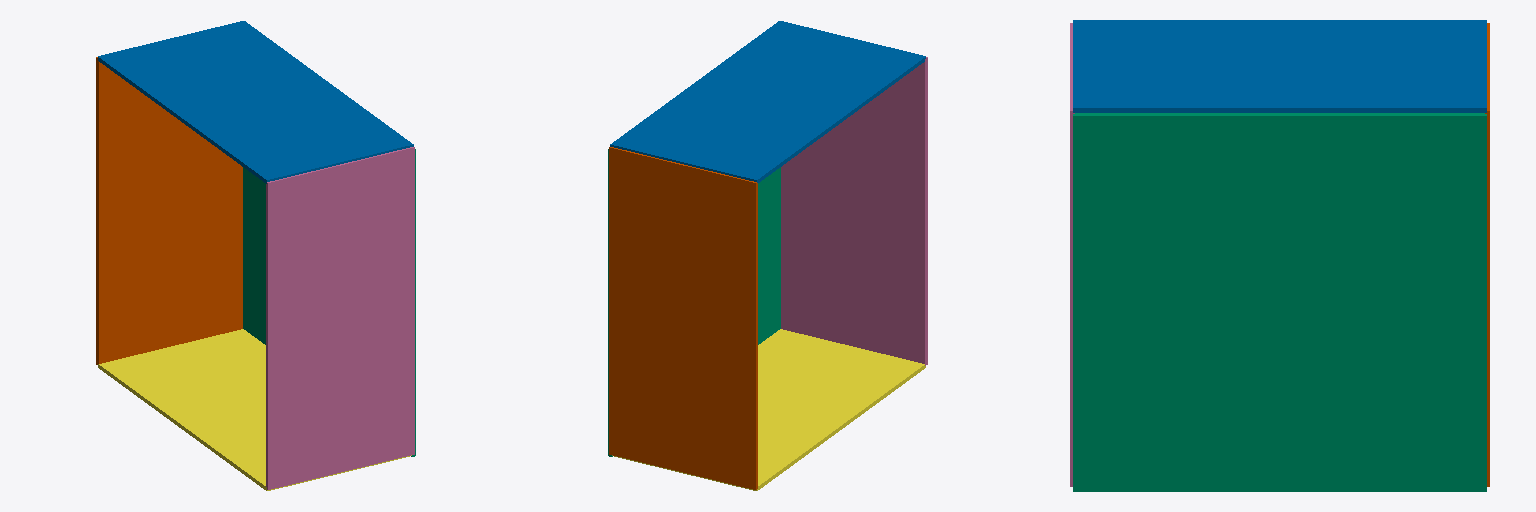
The robot description file, URDF, robot "bucket":
<?xml version="1.0"?>

<robot name="bucket">

  <!-- link -->
  
  <link name="slider">
    <!-- <visual>
      <geometry>
        <box size="0.03 8 0.03"/>
      </geometry>
      <material name="slider_mat">
        <color rgba="0.9 0.6 0.2 1"/>
      </material>
    </visual> -->
    <collision>
      <geometry>
        <box size="0.03 8 0.03"/>
      </geometry>
    </collision>
  </link>

  <link name="cart">
    <!-- <visual>
      <geometry>
        <box size="0.1 0.1 0.1"/>
      </geometry>
      <material name="cart_mat">
        <color rgba="0.3 0.5 0.7 1"/>
      </material>
    </visual> -->
    <collision>
      <geometry>
          <box size="0.1 0.1 0.1"/>
      </geometry>
    </collision>
    <inertial>
      <mass value="1"/>
    </inertial>
  </link>

  <link name="pole">
    <visual>
      <geometry>
        <box size="0.04 3 3"/>
        <!-- <mesh filename="bucket.stl" scale="0.01 0.01 0.01"/> -->
      </geometry>
      <origin xyz="0 0 0.47"/>
      <!-- <material name="pole_mat">
        <color rgba="0.1 0.1 0.3 1"/>
      </material> -->
    </visual>
    <collision>
      <geometry>
        <box size="0.04 3 3"/>	
      </geometry>
      <origin xyz="0 0 0.47"/>
    </collision>
    <inertial>
      <mass value="1"/>
      <origin xyz="0 0 0.47"/>
    </inertial>
  </link>

  <link name="pole_part1">
    <visual>
      <geometry>
        <box size="1.5 3 0.04"/>
      </geometry>
      <origin xyz="0 0 0"/>
    </visual>
    <collision>
      <geometry>
        <box size="1.5 3 0.04"/>	
      </geometry>
      <origin xyz="0 0 0"/>
    </collision>
    <inertial>
      <mass value="1"/>
      <origin xyz="0 0 0"/>
    </inertial>
  </link>

  <link name="pole_part2">
    <visual>
      <geometry>
        <box size="1.5 3 0.04"/>
      </geometry>
      <origin xyz="0 0 0"/>
    </visual>
    <collision>
      <geometry>
        <box size="1.5 3 0.04"/>	
      </geometry>
      <origin xyz="0 0 0"/>
    </collision>
    <inertial>
      <mass value="1"/>
      <origin xyz="0 0 0"/>
    </inertial>
  </link>

  <link name="pole_part3">
    <visual>
      <geometry>
        <box size="1.5 0.04 3"/>
      </geometry>
      <origin xyz="0 0 0"/>
    </visual>
    <collision>
      <geometry>
        <box size="1.5 0.04 3"/>
      </geometry>
      <origin xyz="0 0 0"/>
    </collision>
    <inertial>
      <mass value="1"/>
      <origin xyz="0 0 0"/>
    </inertial>
  </link>

  <link name="pole_part4">
    <visual>
      <geometry>
        <box size="1.5 0.04 3"/>
      </geometry>
      <origin xyz="0 0 0"/>
    </visual>
    <collision>
      <geometry>
        <box size="1.5 0.04 3"/>
      </geometry>
      <origin xyz="0 0 0"/>
    </collision>
    <inertial>
      <mass value="1"/>
      <origin xyz="0 0 0"/>
    </inertial>
  </link>

  <!-- joint -->

  <joint name="slider_to_cart" type="prismatic">
    <axis xyz="0 1 0"/>
    <origin xyz="0 0 0"/>
    <parent link="slider"/>
    <child link="cart"/>
    <limit effort="1000.0" lower="-4" upper="4" velocity="100"/>
  </joint>

  <joint name="cart_to_pole" type="continuous">
    <axis xyz="0 0 1"/>
    <!-- <origin xyz="0.12 0 0"/> -->
    <origin xyz="0 0 1.1"/>
    <parent link="cart"/>
    <child link="pole"/>
    <limit effort="1000.0" velocity="8"/>
  </joint>

  <joint name="none1" type="prismatic">
    <axis xyz="0 1 0"/>
    <origin xyz="-0.75 0 -1"/>
    <parent link="pole"/>
    <child link="pole_part1"/>
    <limit effort="1000.0" lower="0" upper="0" velocity="100"/>
  </joint>

  <joint name="none2" type="prismatic">
    <axis xyz="0 1 0"/>
    <origin xyz="-0.75 0 2"/>
    <parent link="pole"/>
    <child link="pole_part2"/>
    <limit effort="1000.0" lower="0" upper="0" velocity="100"/>
  </joint>

  <joint name="none3" type="prismatic">
    <axis xyz="0 1 0"/>
    <origin xyz="-0.75 1.5 0.5"/>
    <parent link="pole"/>
    <child link="pole_part3"/>
    <limit effort="1000.0" lower="0" upper="0" velocity="100"/>
  </joint>

  <joint name="none4" type="prismatic">
    <axis xyz="0 1 0"/>
    <origin xyz="-0.75 -1.5 0.5"/>
    <parent link="pole"/>
    <child link="pole_part4"/>
    <limit effort="1000.0" lower="0" upper="0" velocity="100"/>
  </joint>
  
</robot>

--- Facts derived from the render (not from the file) ---
3 views of the same robot in one strip: view 1: azimuth 30°, elevation 25°; view 2: azimuth 150°, elevation 25°; view 3: azimuth 270°, elevation 25° (orthographic).
Robot: bucket — 7 links, 6 joints (1 continuous, 5 prismatic); root link slider; default pose: all joints at 0.
Visible links, largest first — view 1: pole_part4, pole_part3, pole_part2, pole_part1, pole; view 2: pole_part3, pole_part4, pole_part2, pole_part1, pole; view 3: pole, pole_part2, pole_part3, pole_part4.
Link boxes in pixels (left/top/right/bottom): pole_part4: left=266, top=147, right=414, bottom=489; pole_part3: left=96, top=57, right=242, bottom=364; pole_part2: left=98, top=21, right=413, bottom=183; pole_part1: left=98, top=329, right=411, bottom=490; pole: left=243, top=149, right=415, bottom=456; pole_part3: left=609, top=147, right=757, bottom=489; pole_part4: left=781, top=57, right=927, bottom=365; pole_part2: left=610, top=21, right=925, bottom=182; pole_part1: left=612, top=329, right=925, bottom=490; pole: left=608, top=149, right=780, bottom=456; pole: left=1073, top=113, right=1486, bottom=491; pole_part2: left=1073, top=20, right=1486, bottom=112; pole_part3: left=1485, top=23, right=1489, bottom=486; pole_part4: left=1070, top=23, right=1074, bottom=486.
Size in the robot's own frame: 1.52 by 3.04 by 3.05 metres.
Geometry: primitives only (box / cylinder / sphere), no mesh files.